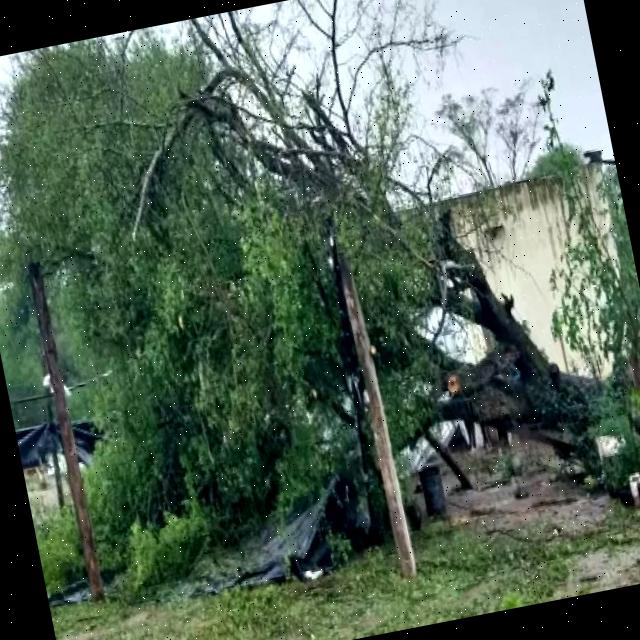Broken Pole: (105, 186, 640, 593)
